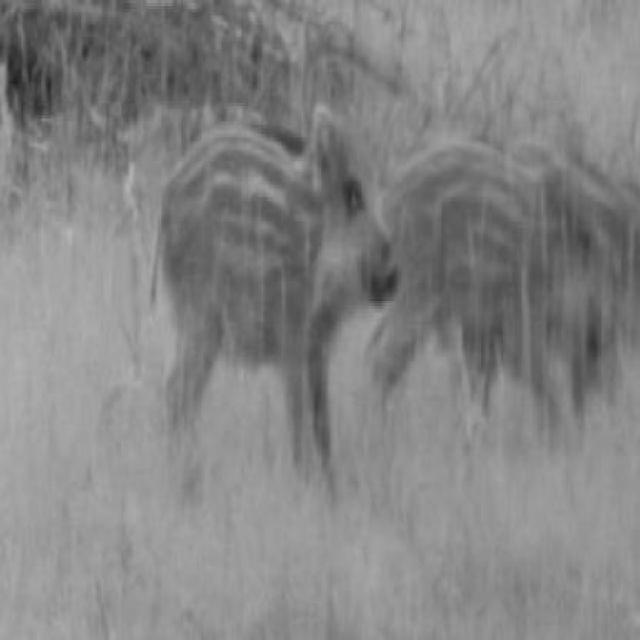pig: (150, 108, 402, 510)
